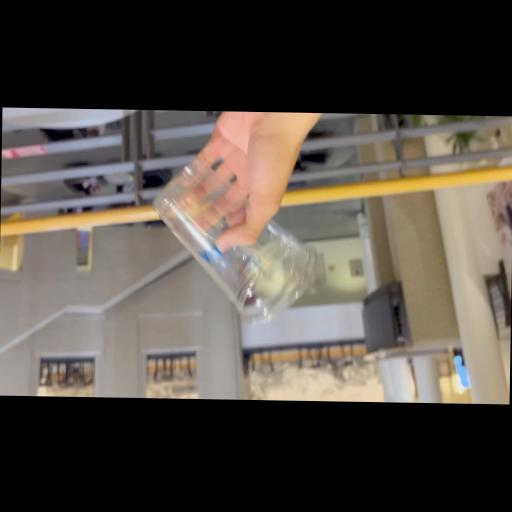lp_plastic_cup: (157, 159, 319, 330)
